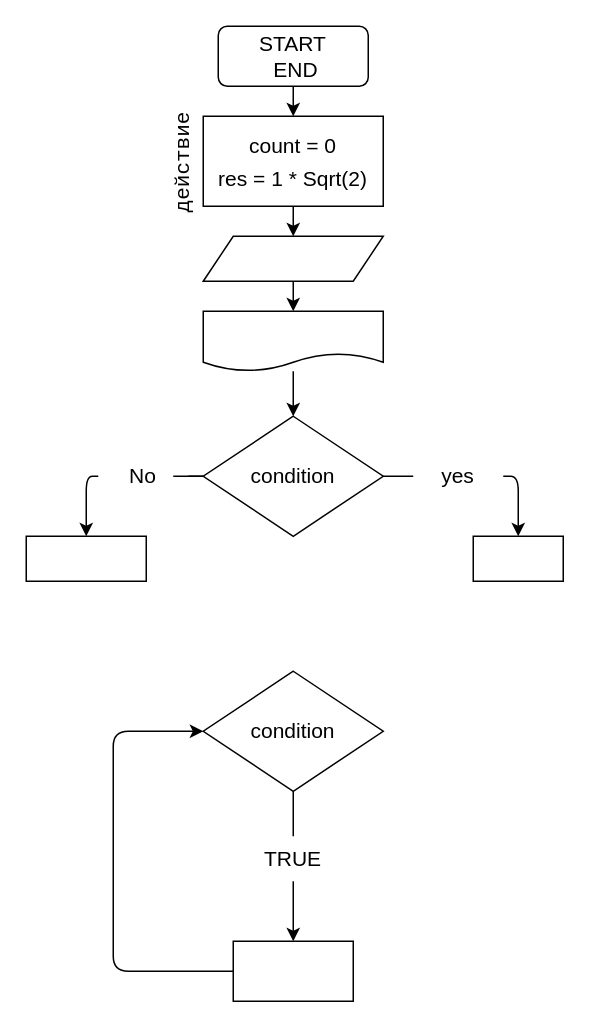
Some shapes in this 590 by 1028 pixel diagram are drawn without their labels. Each missing label, with the centre of its shape:
ВВОД count: the point at 292,258
ВЫВОД res: the point at 292,340
